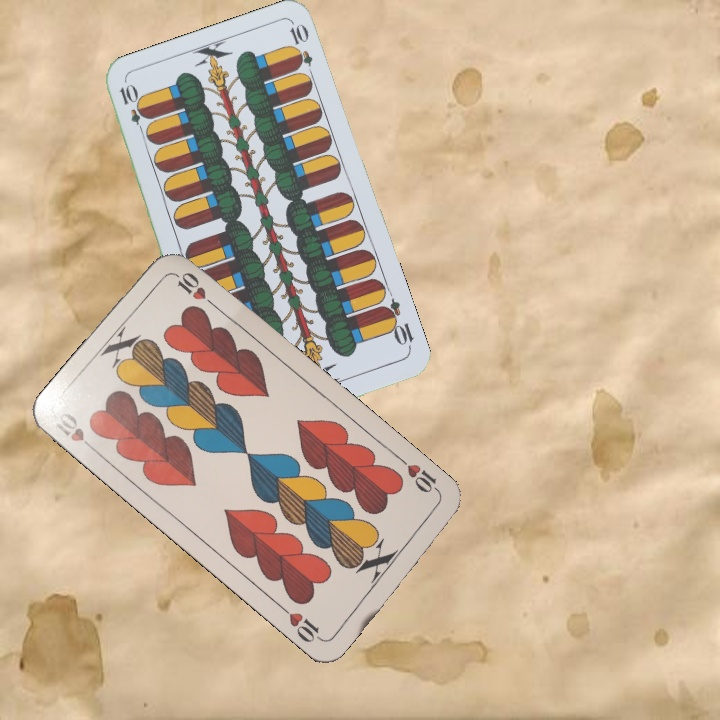E10: (377, 295, 416, 352), (115, 80, 149, 138)
H10: (47, 408, 100, 456), (396, 454, 444, 499)
